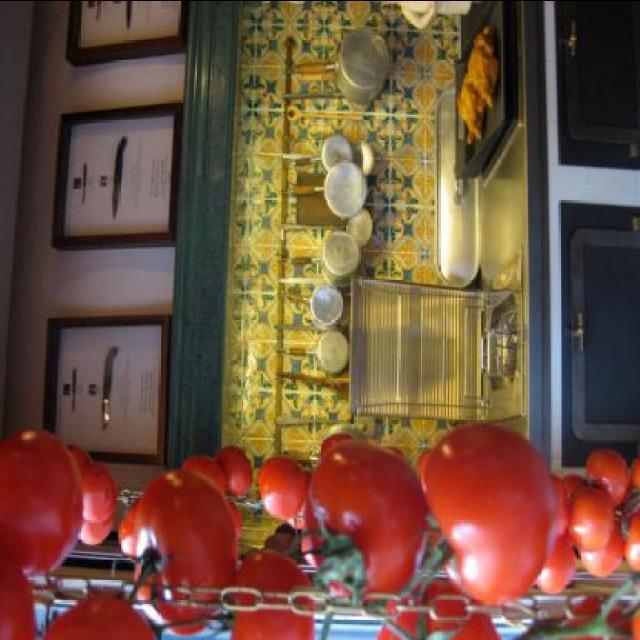Tomato: (0, 422, 638, 640), (422, 423, 580, 609)
